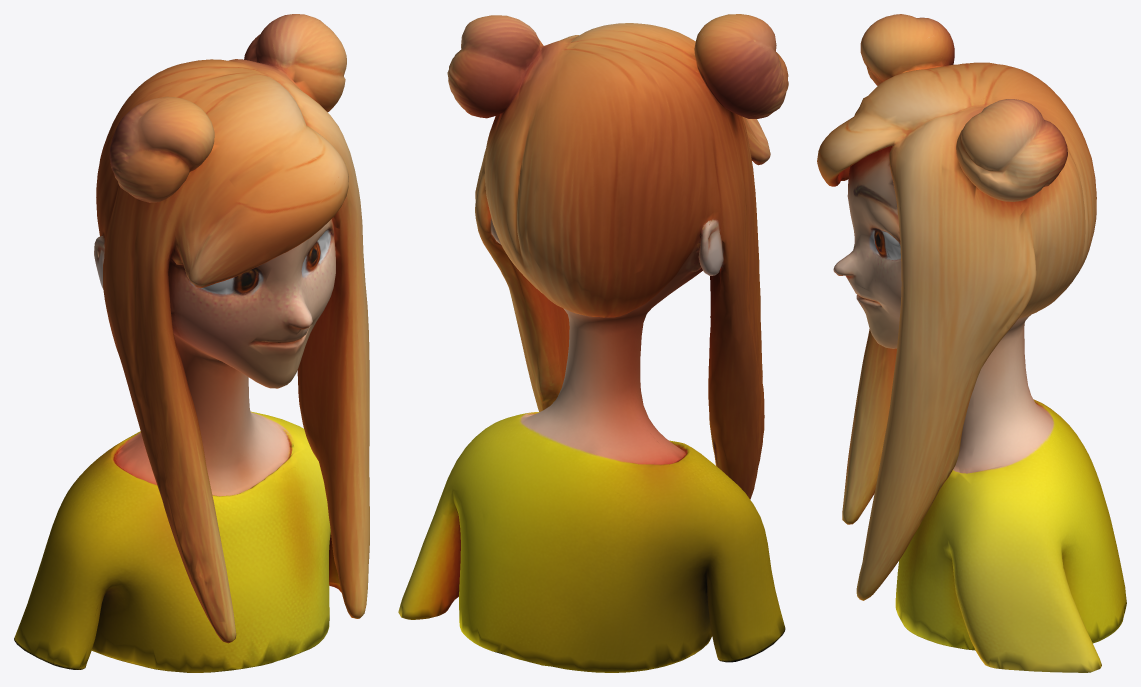
The model's file is Girl3Boutique.glb.
The picture shows the model from 3 angles, left to right: view 1: azimuth 30°, elevation 25°; view 2: azimuth 150°, elevation 25°; view 3: azimuth 270°, elevation 25°; orthographic projection. The views are drawn at different scales.
Visible parts, largest first — view 1: world; view 2: world; view 3: world.
Part boxes in pixels (x1,y1,x2,y2): world: [14, 14, 369, 672]; world: [398, 14, 788, 672]; world: [817, 14, 1126, 672].
Size of the model in its own units: 0.6016 by 1 by 0.5174.
1 material, 1 textured.
